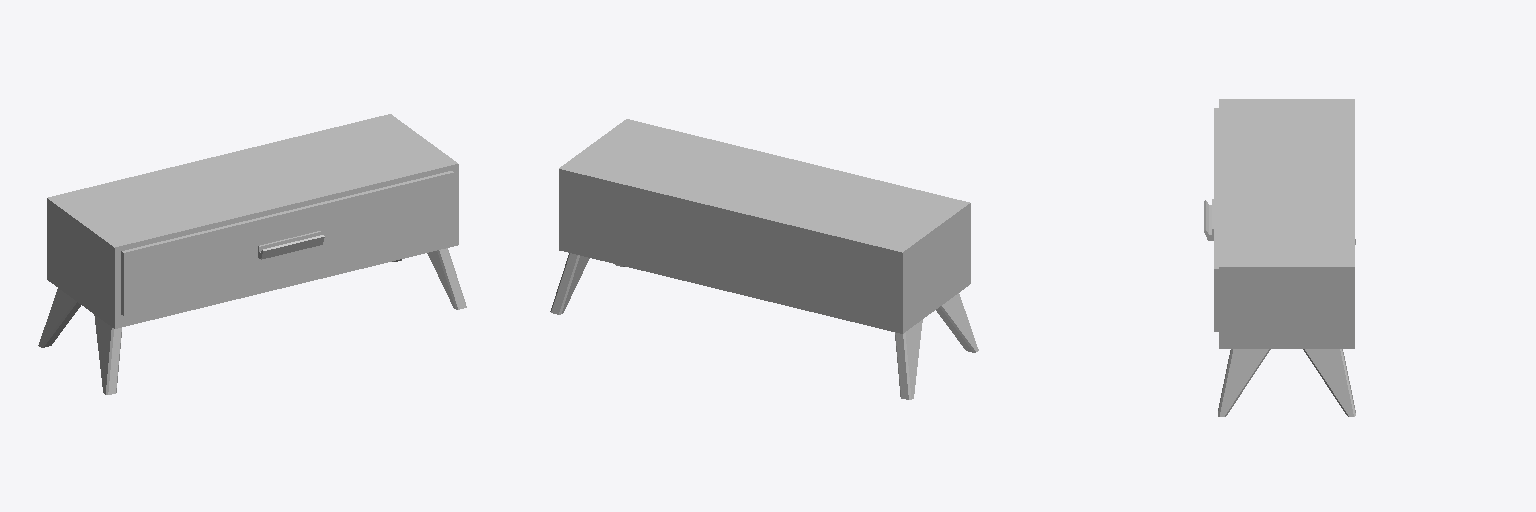
File: Low_Poly_TV_Cabinet.obj
3 renders of one model, left to right at view 1: azimuth 30°, elevation 25°; view 2: azimuth 150°, elevation 25°; view 3: azimuth 270°, elevation 25°, orthographic.
Visible parts, largest first — view 1: Low_Poly_TV_Cabinet Low_Poly_TV_Cabinet, Draw Low_Poly_TV_Cabinet; view 2: Low_Poly_TV_Cabinet Low_Poly_TV_Cabinet; view 3: Low_Poly_TV_Cabinet Low_Poly_TV_Cabinet, Draw Low_Poly_TV_Cabinet.
Part boxes in pixels (x1,y1,x2,y2): Low_Poly_TV_Cabinet Low_Poly_TV_Cabinet: (38, 114, 466, 394); Draw Low_Poly_TV_Cabinet: (121, 171, 453, 315); Low_Poly_TV_Cabinet Low_Poly_TV_Cabinet: (550, 119, 978, 399); Low_Poly_TV_Cabinet Low_Poly_TV_Cabinet: (1218, 99, 1355, 416); Draw Low_Poly_TV_Cabinet: (1204, 108, 1218, 331).
Bounding box in the file's own units: 14.84 × 5.72 × 5.42.